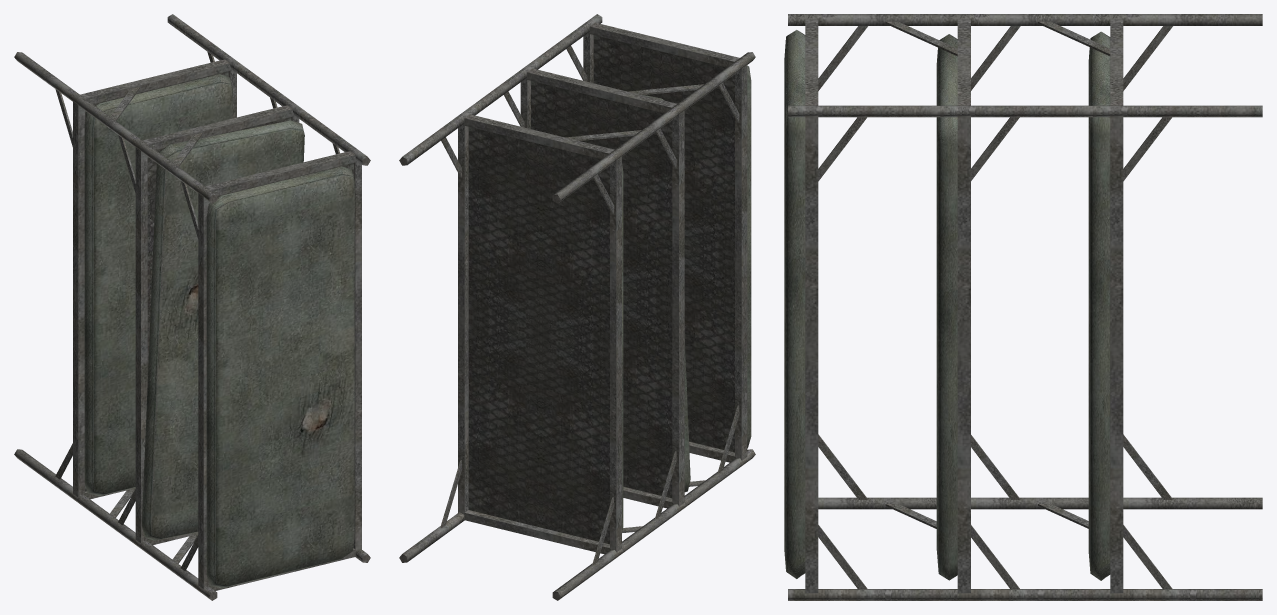
File: furniture_bed_bunker2.glb
3 views of the same model, side by side, from view 1: azimuth 30°, elevation 25°; view 2: azimuth 150°, elevation 25°; view 3: azimuth 270°, elevation 25° (orthographic). The views are drawn at different scales.
Bounding box in the file's own units: 36.7 × 87.37 × 76.57.
2 materials, 2 textured.
